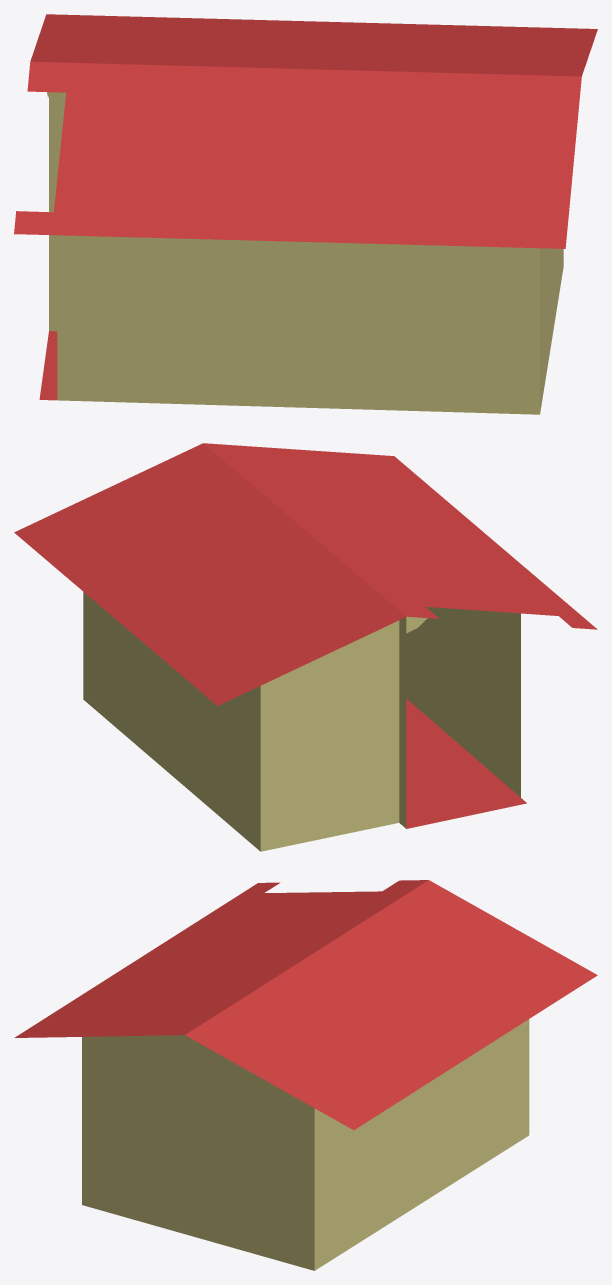
3 renders of one model, top to bottom at view 1: azimuth 30°, elevation 25°; view 2: azimuth 150°, elevation 25°; view 3: azimuth 270°, elevation 25°, orthographic. The views are drawn at different scales.
Size of the model in its own units: 28 by 27.57 by 11.01.
